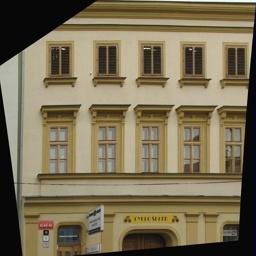building: (33, 0, 256, 239)
